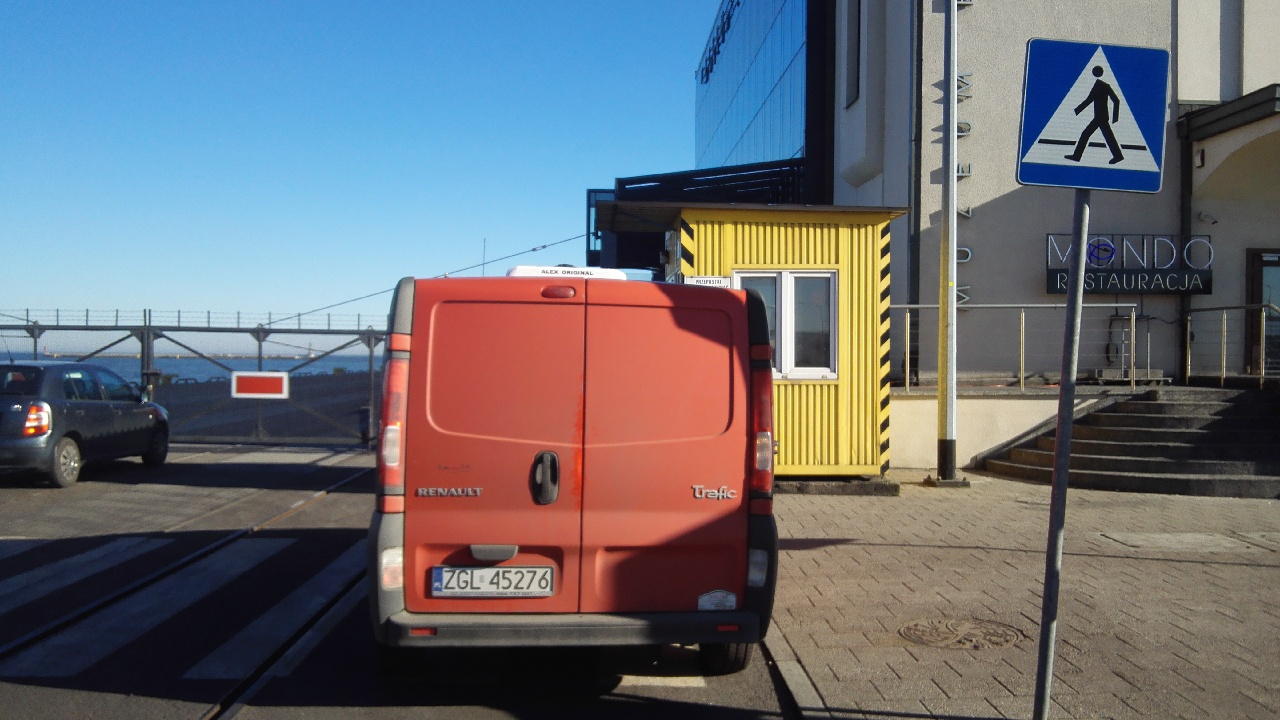D6: (1011, 32, 1175, 201)
